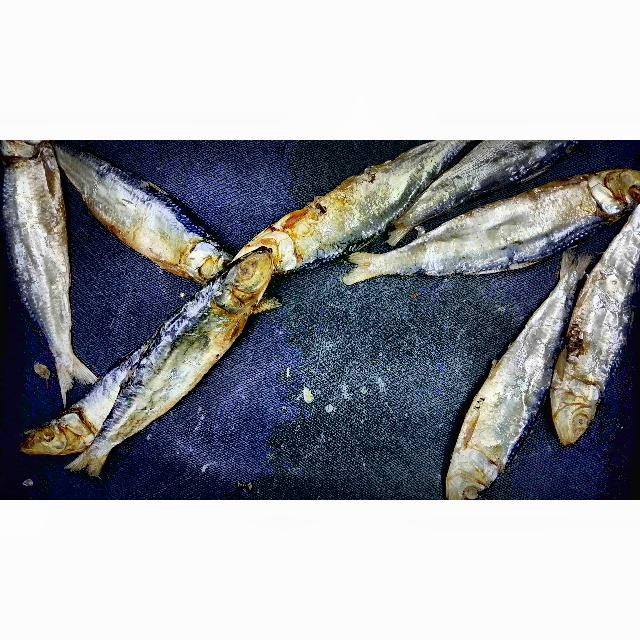Grade_C_Body: (434, 172, 592, 278), (69, 153, 195, 279), (545, 239, 640, 387), (459, 302, 560, 437), (289, 150, 409, 259), (0, 166, 72, 344), (126, 299, 235, 406), (423, 140, 549, 204)
Grade_C_Head: (199, 246, 275, 332), (16, 400, 101, 462), (437, 440, 517, 500), (545, 376, 605, 448), (579, 160, 640, 220)
Grade_C_Tail: (38, 327, 102, 397), (338, 243, 409, 287), (65, 429, 119, 481), (544, 247, 592, 298)
